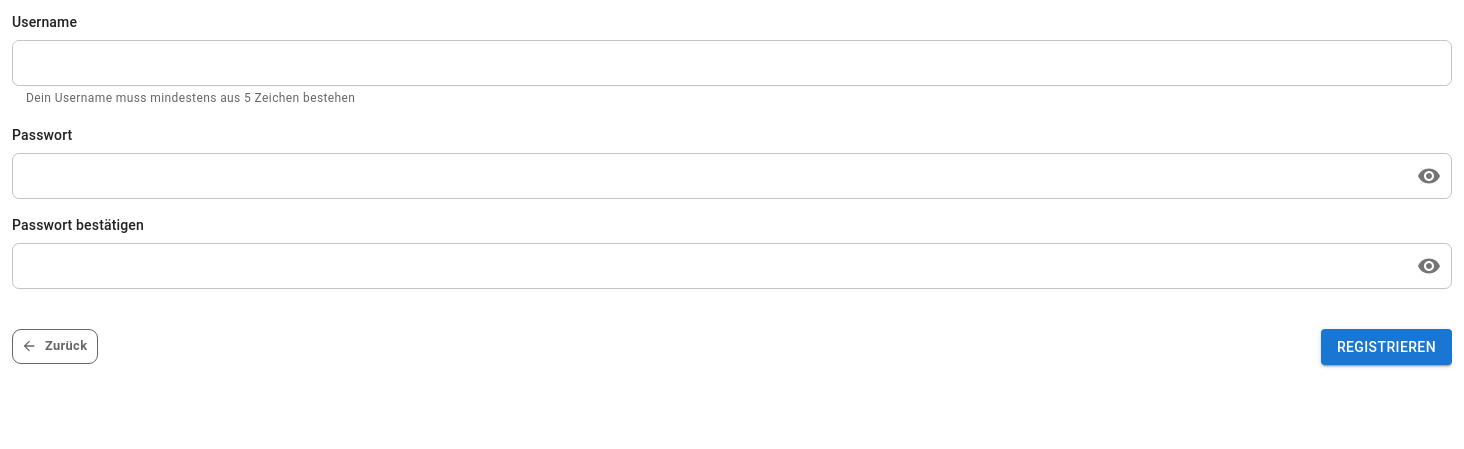
it: shows error when username validation fails
Step 1. Type "1" into the field named "username" → (732, 63), box [12, 45, 1452, 81]
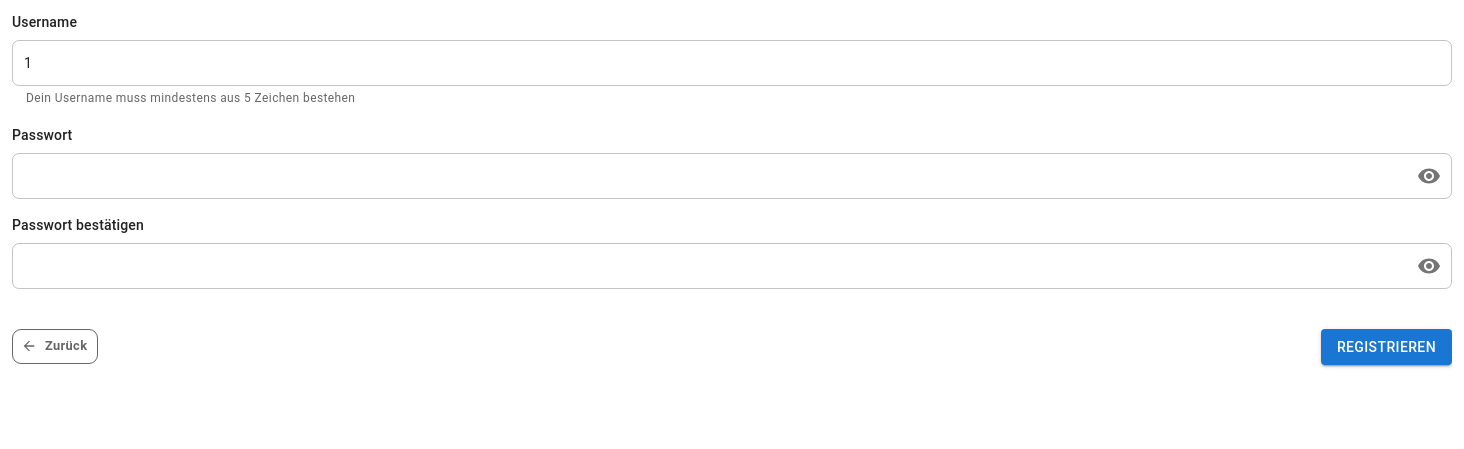
Step 2. Click the button "Registrieren" → click(1386, 347), box [1321, 329, 1452, 366]
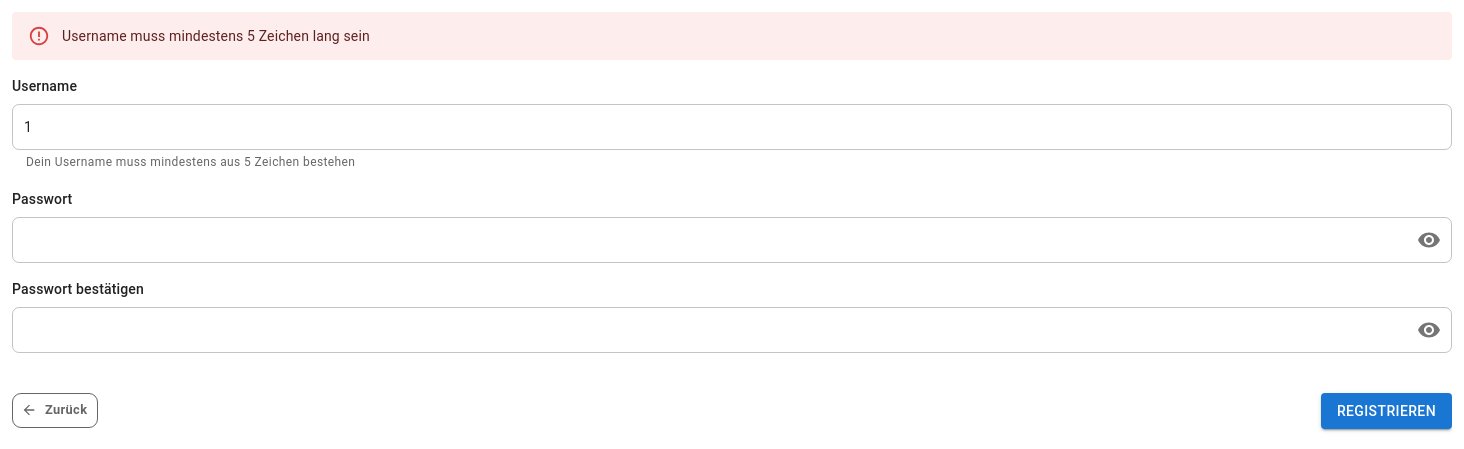
Expected: the text "Username muss mindestens 5 Zeichen lang sein" is shown, [62, 28, 370, 44]
